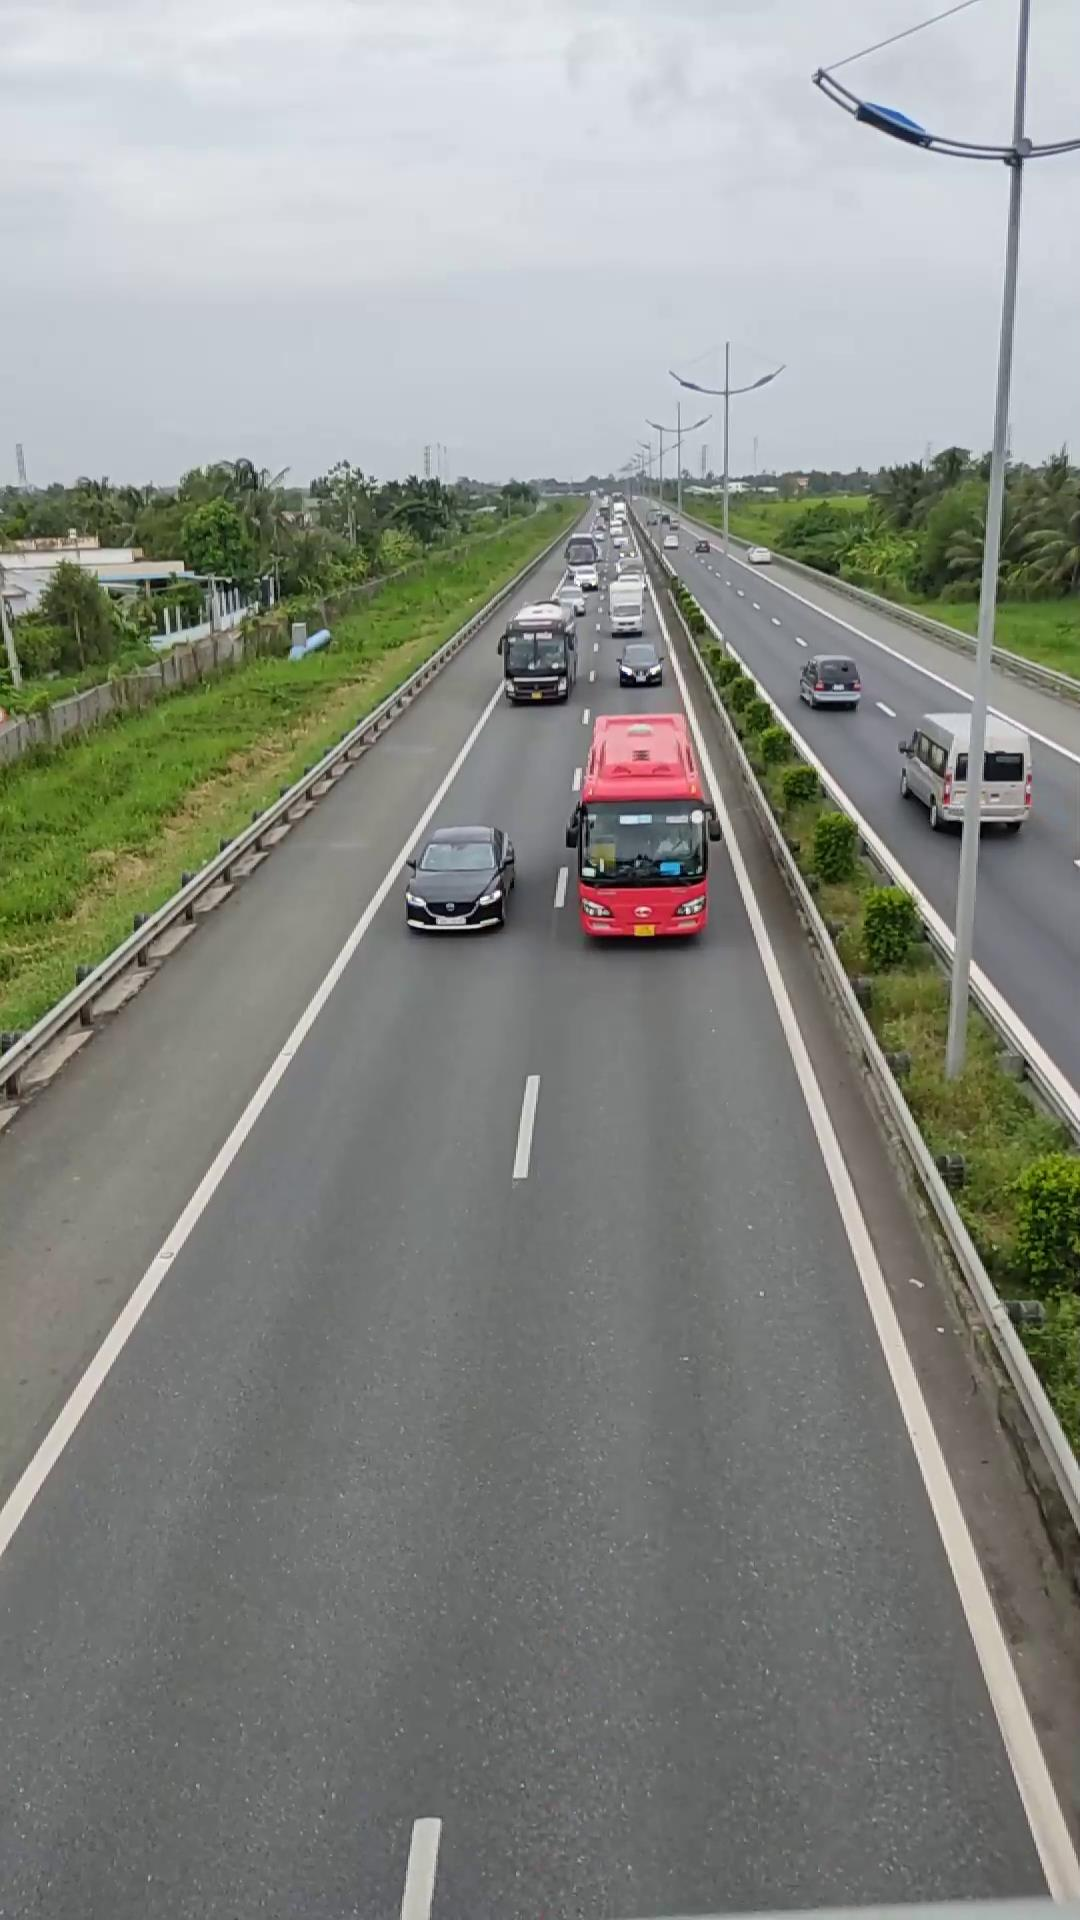bus: (566, 713, 719, 946), (499, 599, 576, 704)
car: (898, 705, 1036, 835), (403, 823, 516, 933)
